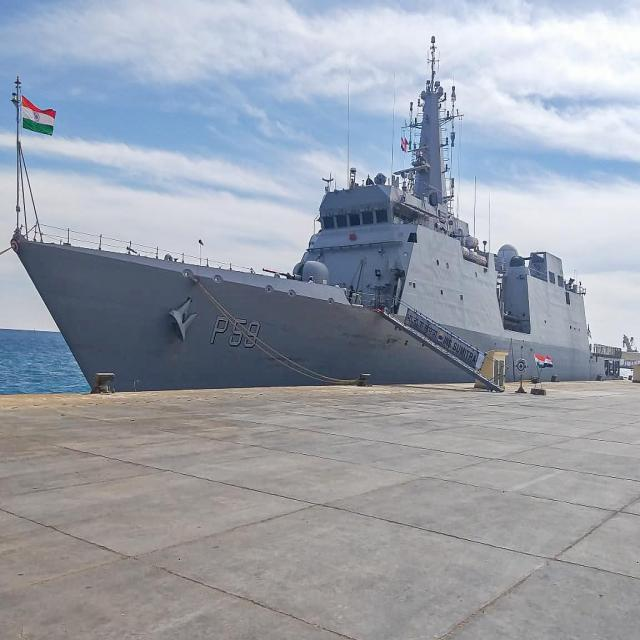Patrol-Vessel-Saryu-Class-IND: (19, 26, 593, 386)
